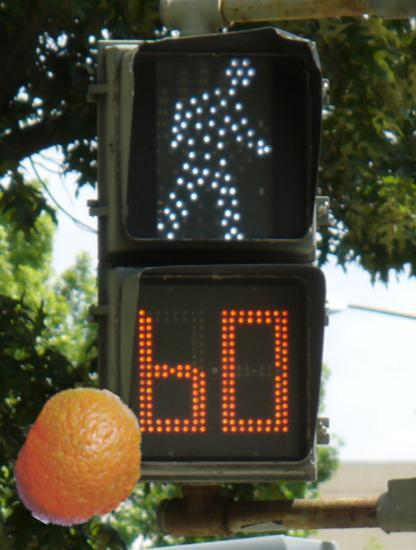Mandarine: (6, 385, 153, 532)
